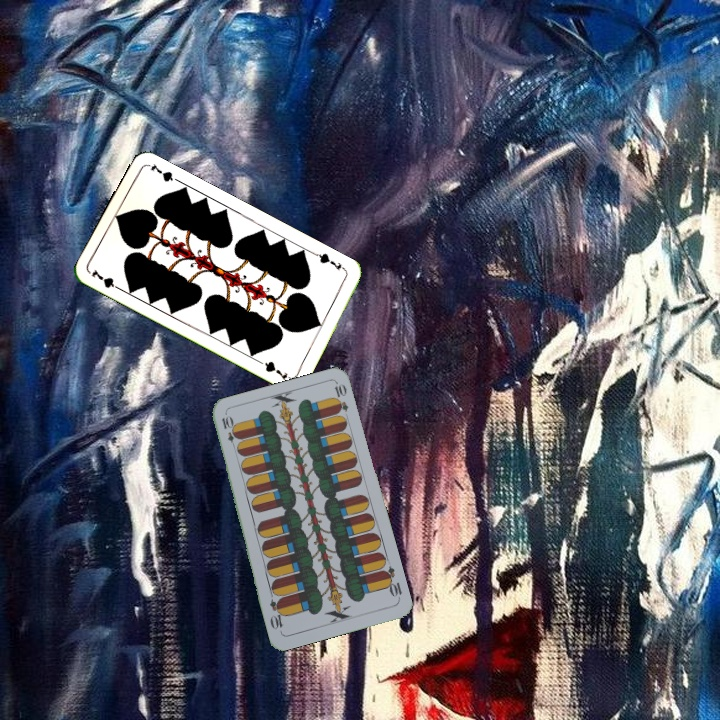E10: (379, 562, 405, 602), (217, 412, 240, 452)
G7: (87, 265, 125, 293), (311, 249, 349, 274)
